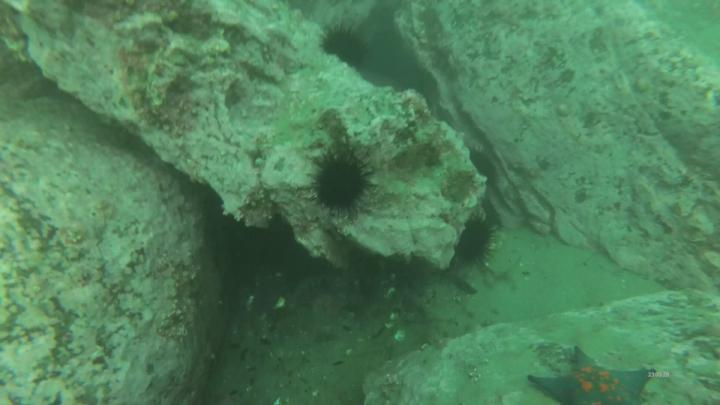echinus: (315, 163, 364, 212), (456, 218, 494, 265), (325, 29, 367, 65), (467, 146, 497, 187)
starfish: (528, 348, 658, 405)
